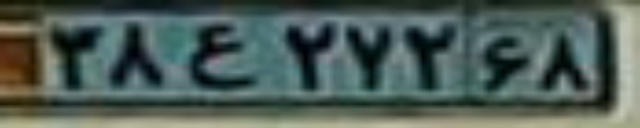2: (281, 20, 337, 90), (402, 21, 456, 90)
3: (50, 22, 102, 89)
6: (480, 34, 528, 90)
7: (345, 22, 393, 91)
8: (104, 22, 166, 88), (538, 31, 590, 92)
ain: (184, 22, 256, 88)
